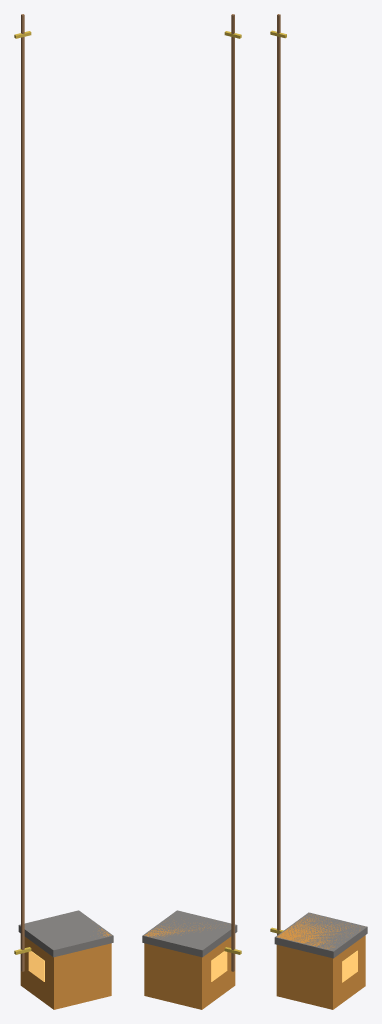
The model's file is 11_hoist_cabin.glb.
3 renders of one model, left to right at view 1: azimuth 30°, elevation 25°; view 2: azimuth 150°, elevation 25°; view 3: azimuth 330°, elevation 25°, orthographic. The views are drawn at different scales.
Parts seen in each view (by area): view 1: hoist_cabin_dyn_hazard, hoist_guide_cable_steelrust_nocol, hoist_cabin_dyn_concretedark, hoist_cabin_dyn_windowwarm_nocol; view 2: hoist_cabin_dyn_hazard, hoist_guide_cable_steelrust_nocol, hoist_cabin_dyn_concretedark, hoist_cabin_dyn_windowwarm_nocol; view 3: hoist_cabin_dyn_hazard, hoist_guide_cable_steelrust_nocol, hoist_cabin_dyn_concretedark, hoist_cabin_dyn_windowwarm_nocol.
Part boxes in pixels (x1,y1,x2,y2): hoist_cabin_dyn_hazard: (20, 928, 111, 1009); hoist_guide_cable_steelrust_nocol: (21, 14, 24, 971); hoist_cabin_dyn_concretedark: (18, 910, 113, 957); hoist_cabin_dyn_windowwarm_nocol: (28, 951, 44, 981); hoist_cabin_dyn_hazard: (144, 922, 235, 1009); hoist_guide_cable_steelrust_nocol: (231, 14, 234, 971); hoist_cabin_dyn_concretedark: (142, 910, 237, 957); hoist_cabin_dyn_windowwarm_nocol: (211, 951, 227, 981); hoist_cabin_dyn_hazard: (276, 914, 365, 1009); hoist_guide_cable_steelrust_nocol: (277, 14, 280, 935); hoist_cabin_dyn_concretedark: (274, 912, 367, 958); hoist_cabin_dyn_windowwarm_nocol: (342, 950, 357, 982).
Size of the model in its own units: 8.42 by 98.12 by 6.25.
